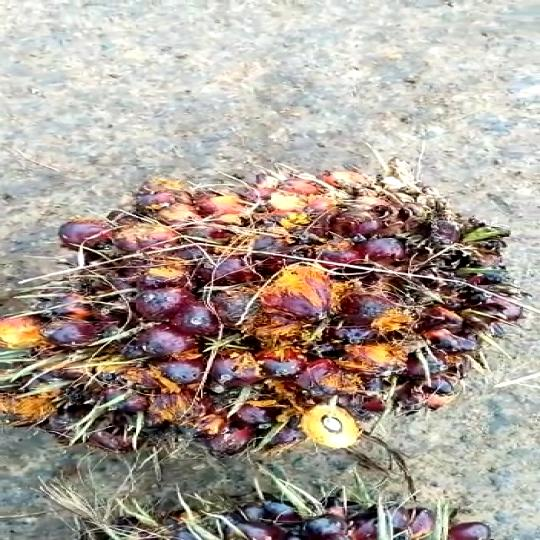masak: (0, 137, 540, 479)
